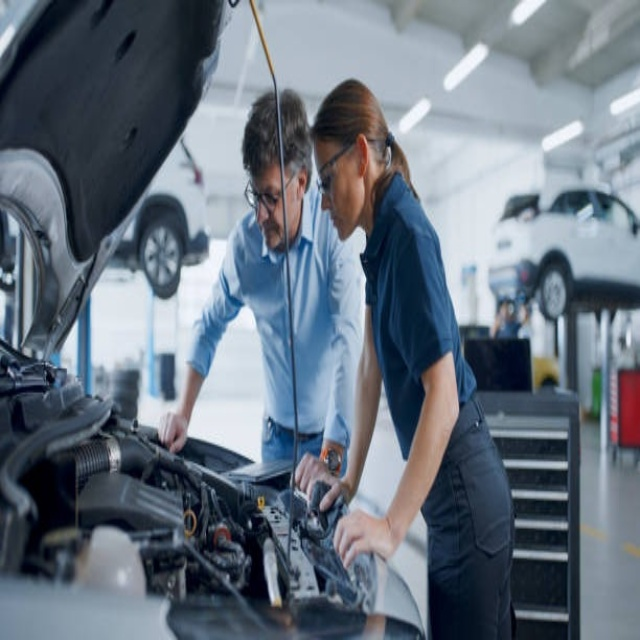Gafas: (243, 167, 304, 214), (316, 136, 357, 186)
Sin_guantes: (333, 499, 395, 573), (294, 452, 343, 506), (157, 410, 190, 453)
Sin_mascara: (257, 221, 280, 257), (322, 207, 344, 244)
